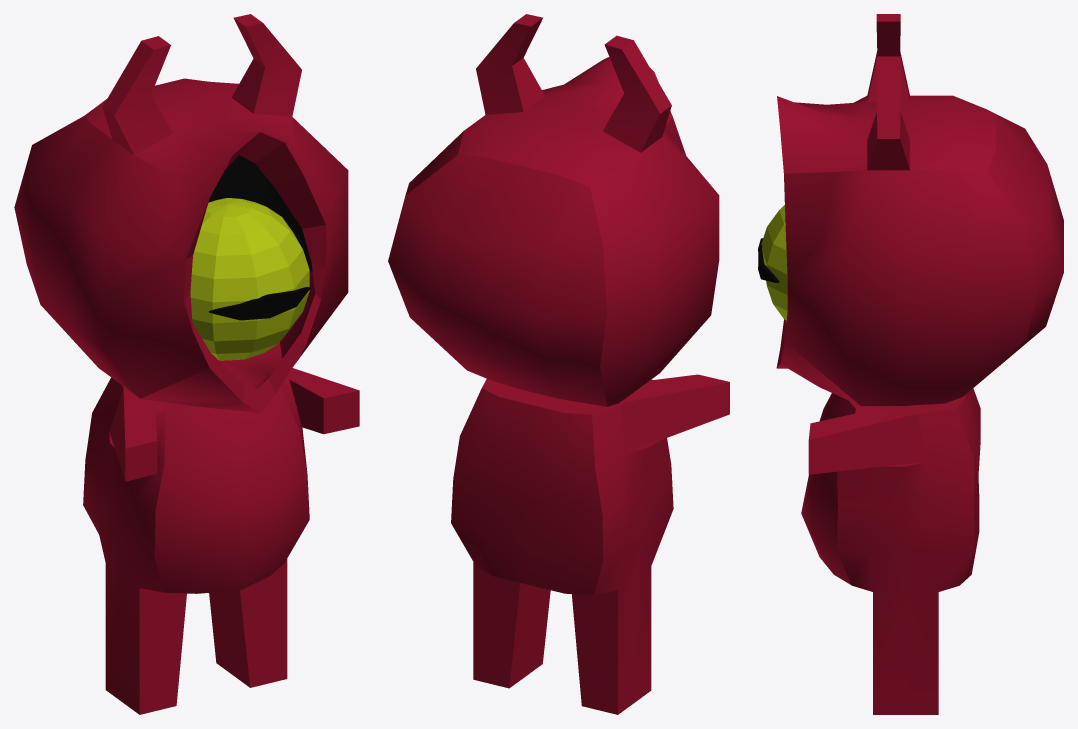
Rendered from FattyMonsterMesh.fbx.
3 views of the same model, side by side, from view 1: azimuth 30°, elevation 25°; view 2: azimuth 150°, elevation 25°; view 3: azimuth 270°, elevation 25° (orthographic). The views are drawn at different scales.
Visible parts, largest first — view 1: polySurface16; view 2: polySurface16; view 3: polySurface16.
Boxes of the visible parts, left/top/right/bottom form: polySurface16: left=14, top=14, right=359, bottom=714; polySurface16: left=388, top=14, right=729, bottom=714; polySurface16: left=758, top=14, right=1063, bottom=714.
Size of the model in its own units: 0.9948 by 2.51 by 1.09.
